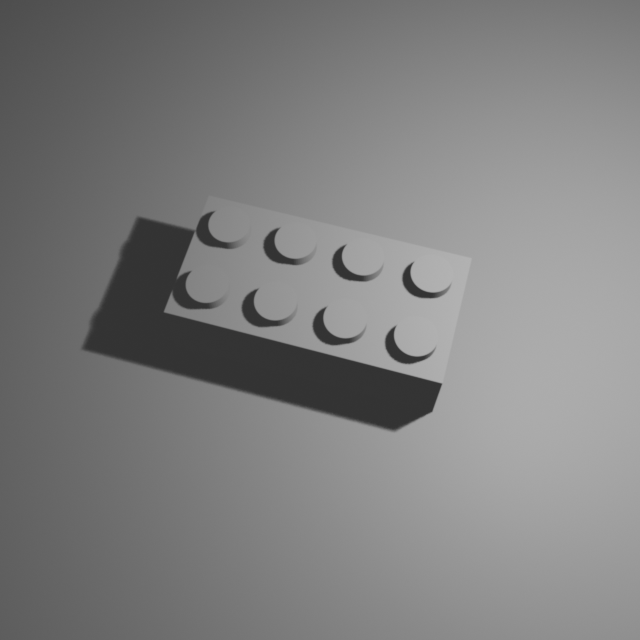lego_2x4: (161, 188, 474, 412)
